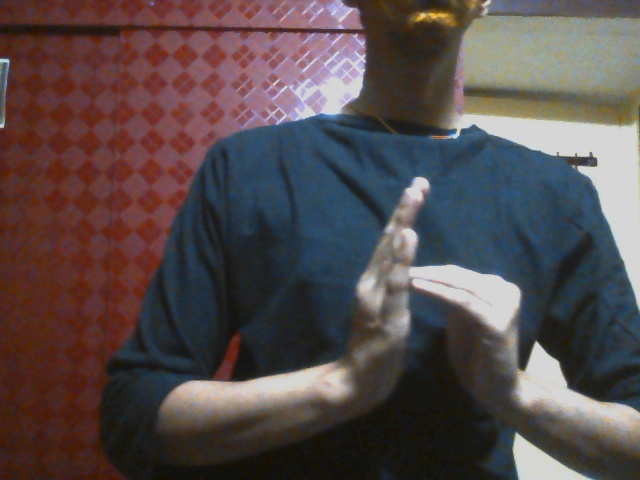Z: (329, 176, 523, 437)
